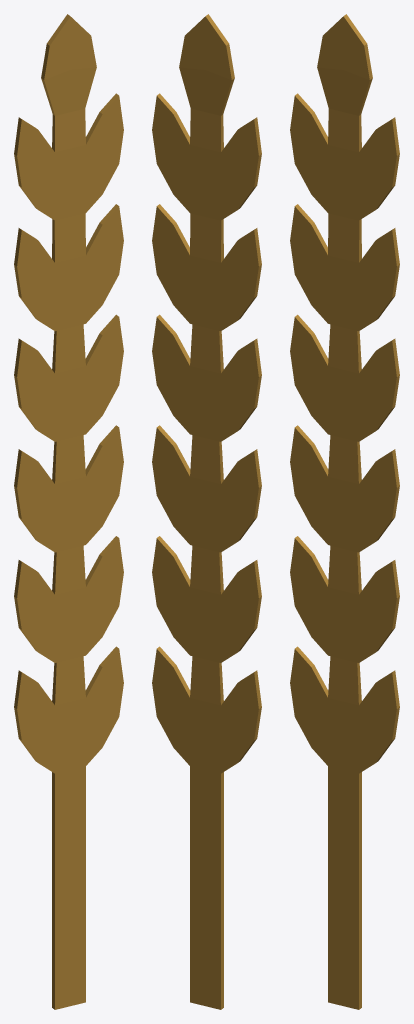
Rendered from wheat_simple.fbx.
3 views of the same model, side by side, from view 1: azimuth 30°, elevation 25°; view 2: azimuth 150°, elevation 25°; view 3: azimuth 330°, elevation 25° (orthographic).
Parts seen in each view (by area): view 1: wheat_simple; view 2: wheat_simple; view 3: wheat_simple.
Part boxes in pixels (x1,y1,x2,y2): wheat_simple: (14,14,123,1009); wheat_simple: (152,14,261,1009); wheat_simple: (290,14,399,1009).
Bounding box in the file's own units: 14.36 × 127 × 0.7106.
